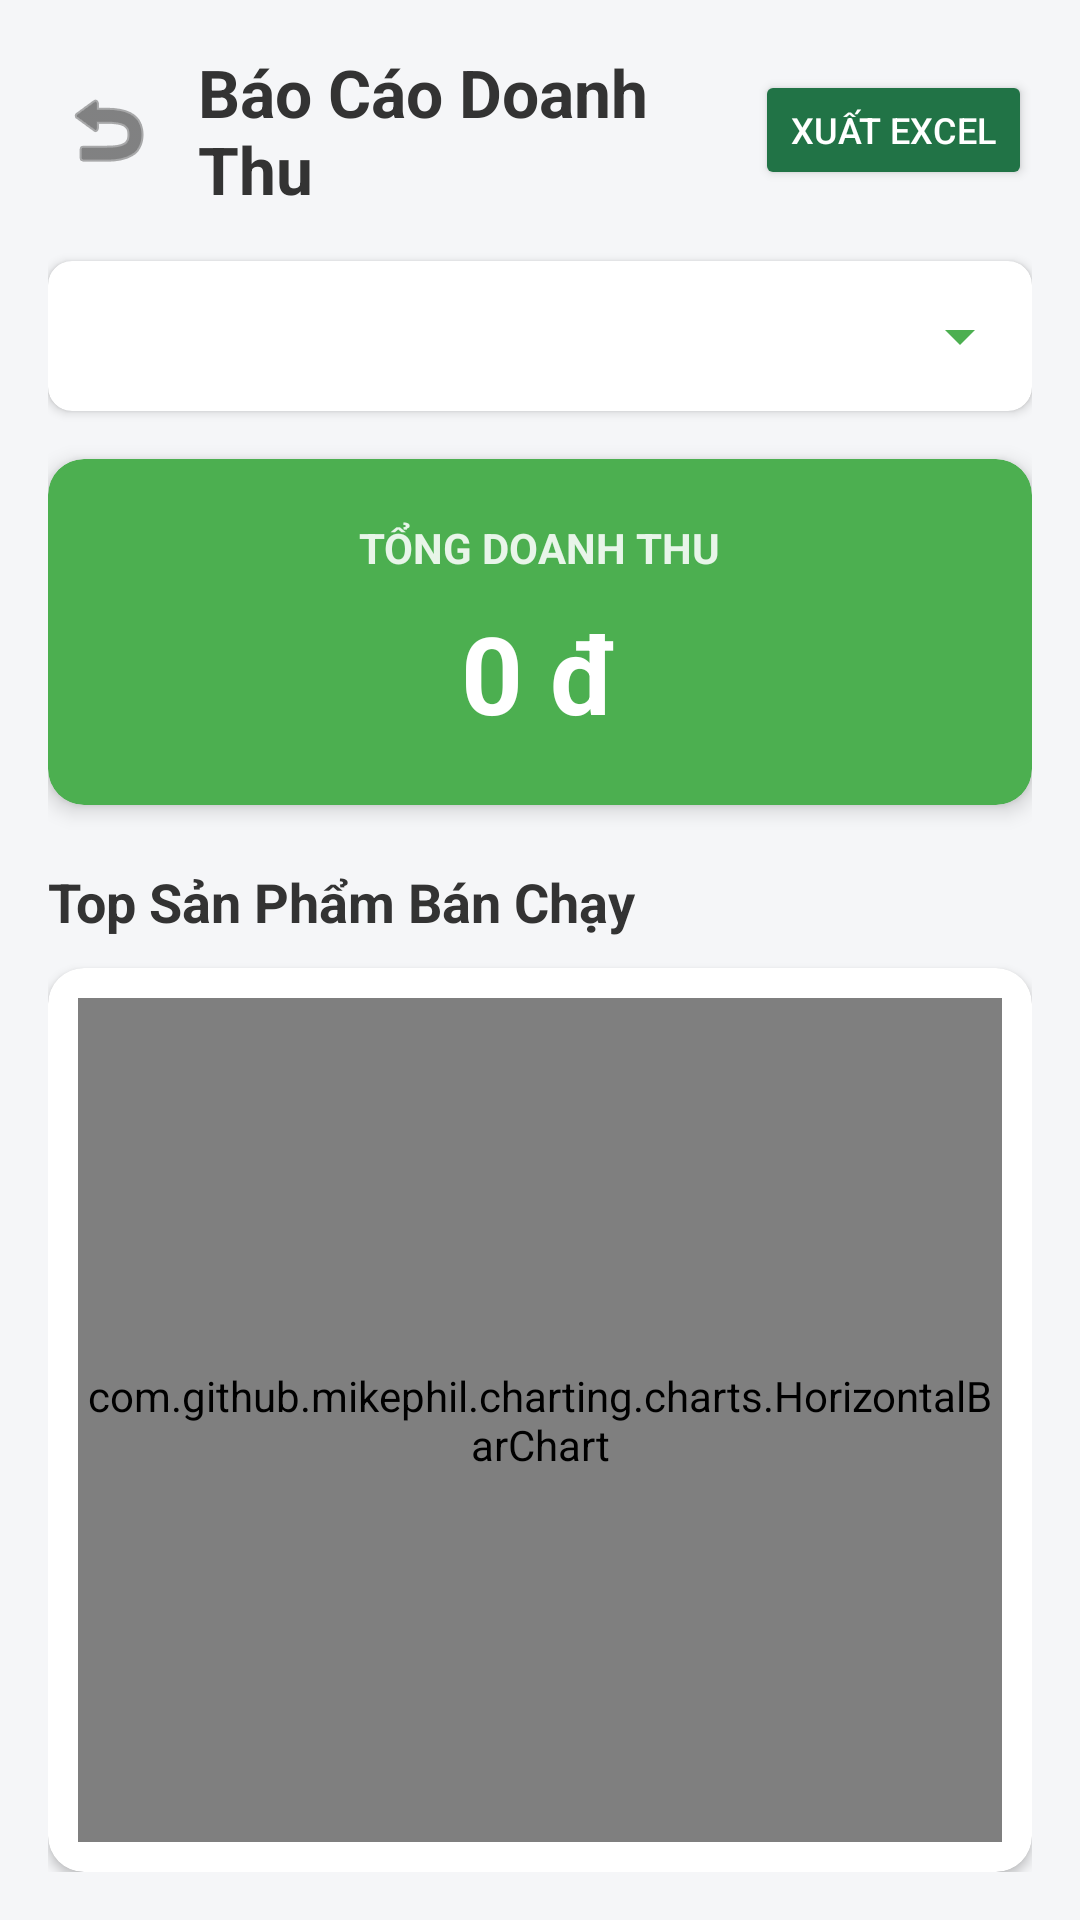

Locate icon controls on the screen. Image size 1080 × 1920, boxes as detection(x1, y1, x2, y2).
revert: detection(75, 99, 144, 162)
